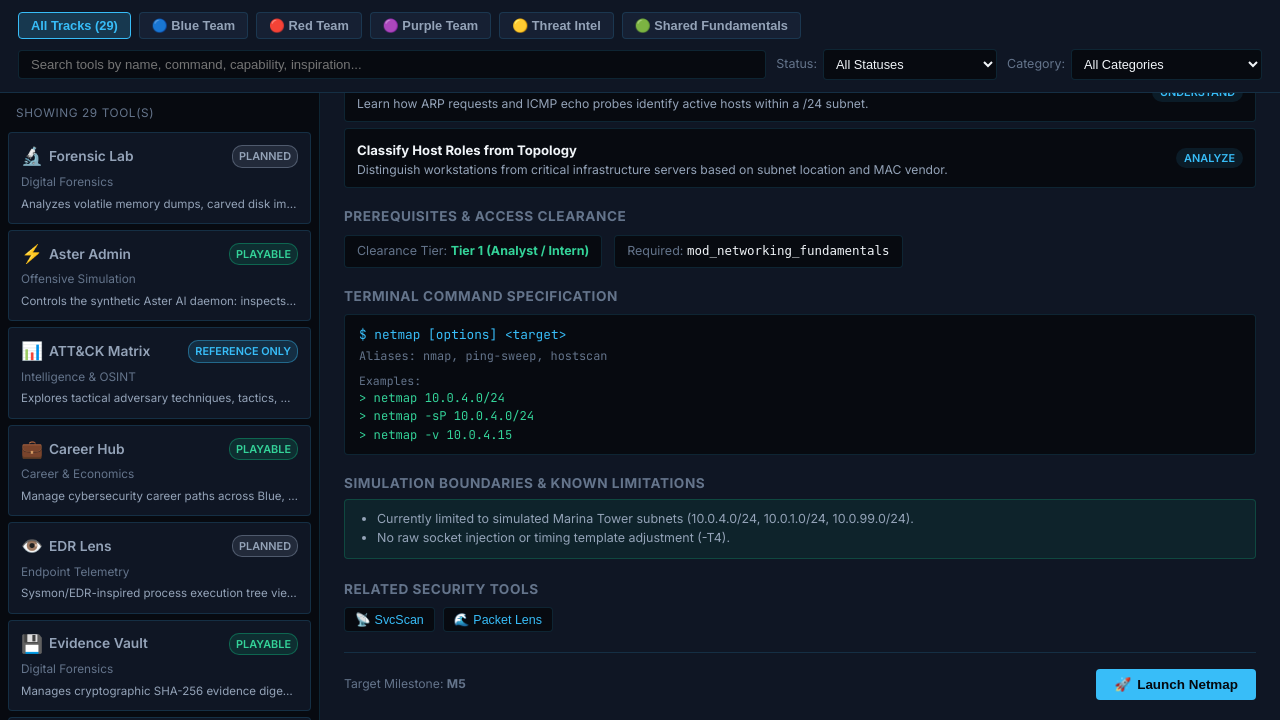
Scenario: CyberCatalogueApp & CyberArsenalView Integration › allows navigation to related tools via related tool buttons
The width and height of the screenshot is (1280, 720).
(page scrolled)
// Netmap relates to SvcScan
Click the button with test id "related-tool-tool_svcscan". click: (389, 620)
box: [344,607,435,632]
(page scrolled)
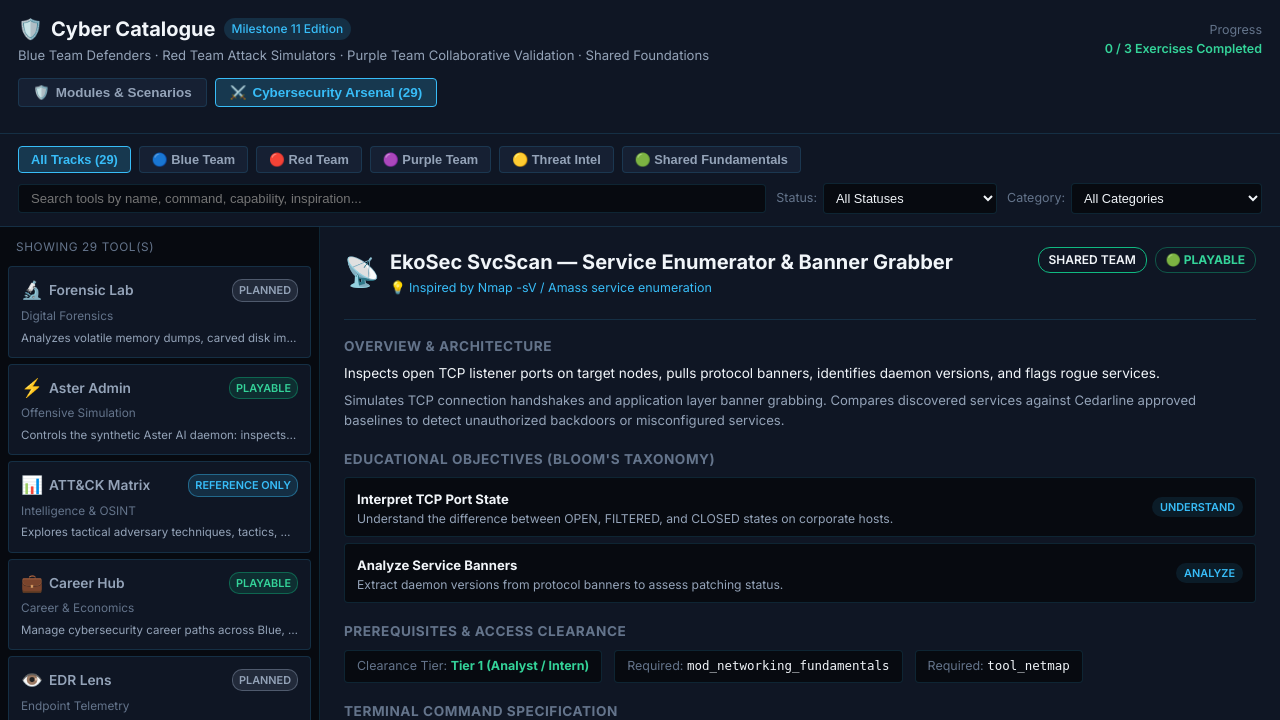
Expected: the heading with test id "selected-tool-name" shows "SvcScan", [390,250,953,274]
